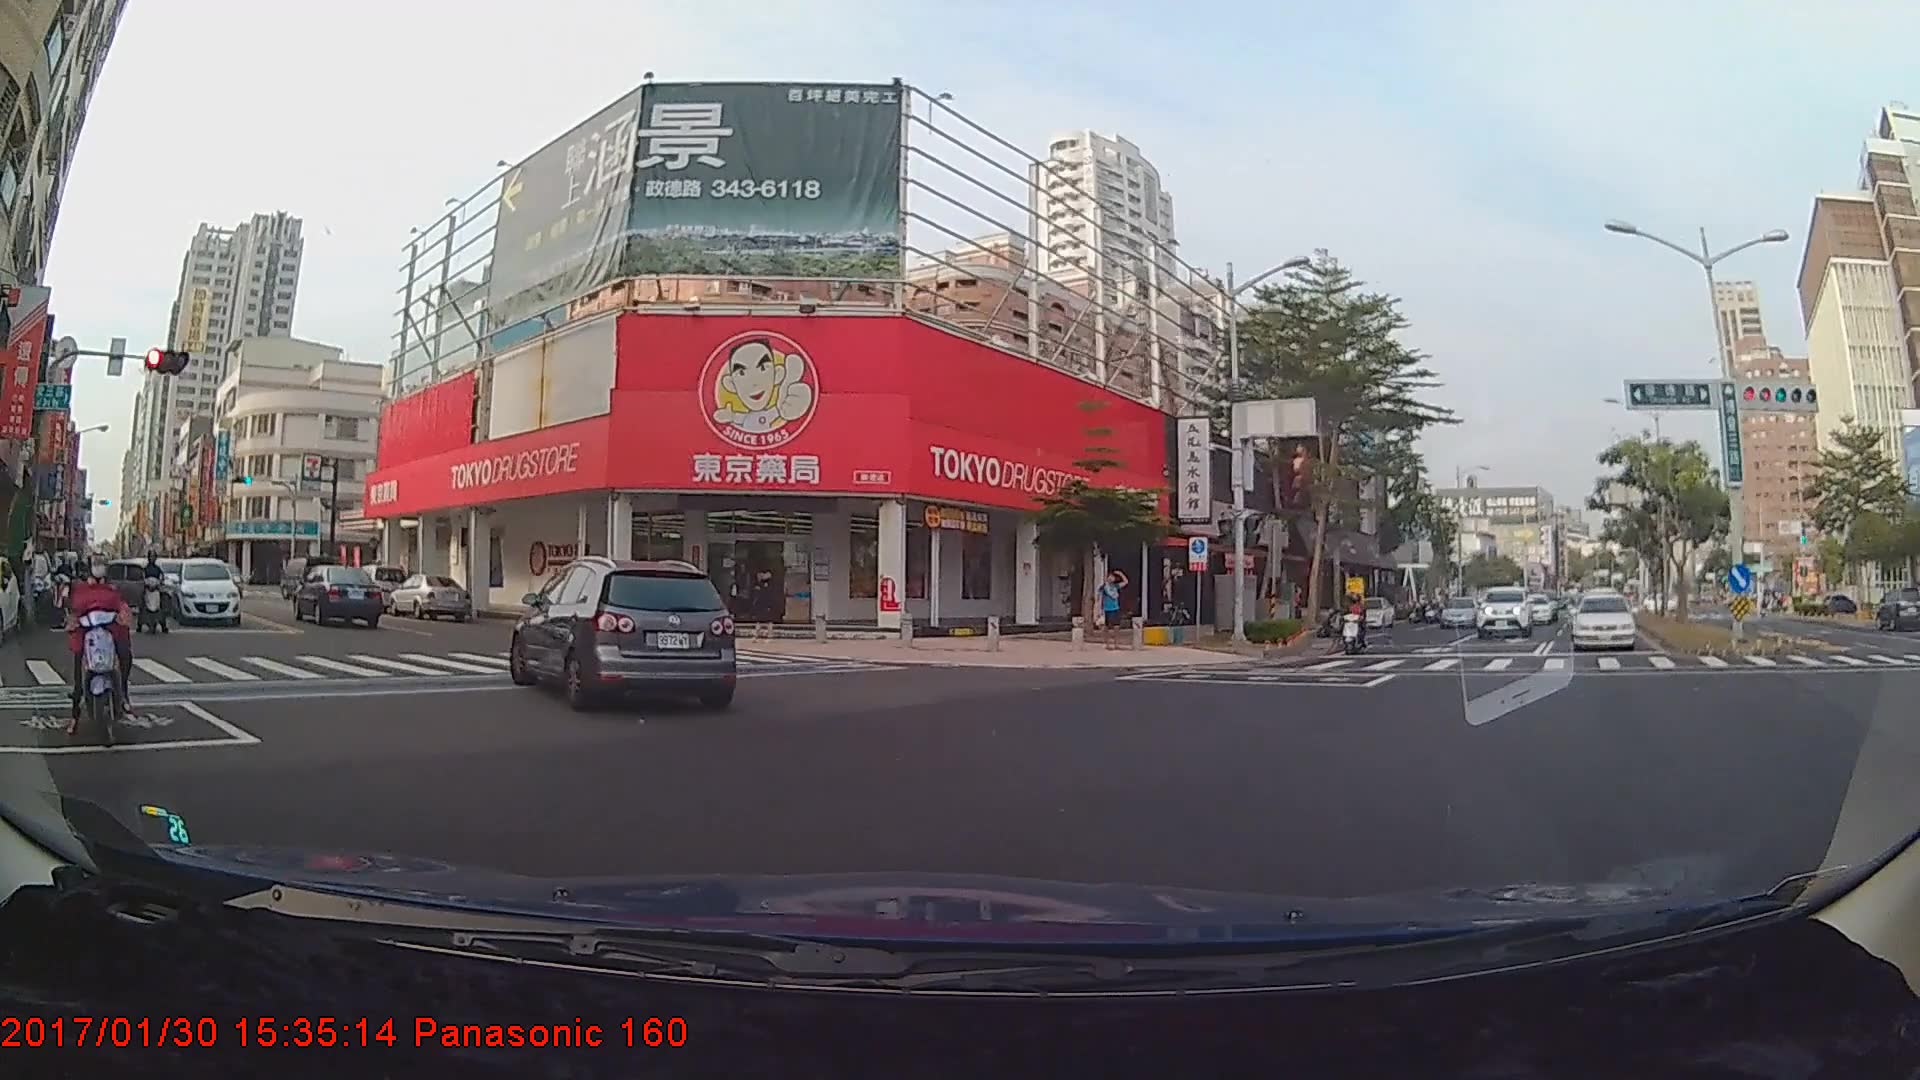pedestrian: (750, 564, 787, 653), (1095, 568, 1131, 649)
rider: (57, 543, 141, 764), (136, 551, 176, 640), (48, 544, 82, 625), (1337, 588, 1375, 654)
vehicle: (516, 556, 734, 711), (293, 563, 382, 627), (90, 558, 181, 613), (168, 556, 239, 625), (385, 569, 471, 618), (1568, 592, 1637, 650), (1474, 585, 1533, 637), (1870, 584, 1920, 631), (1347, 592, 1391, 628), (1440, 595, 1484, 628), (1516, 592, 1552, 623)
